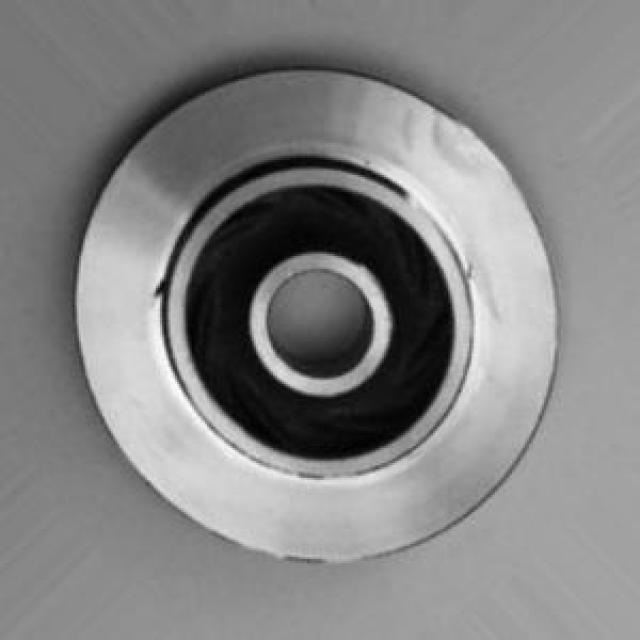Defect: (147, 268, 175, 311)
